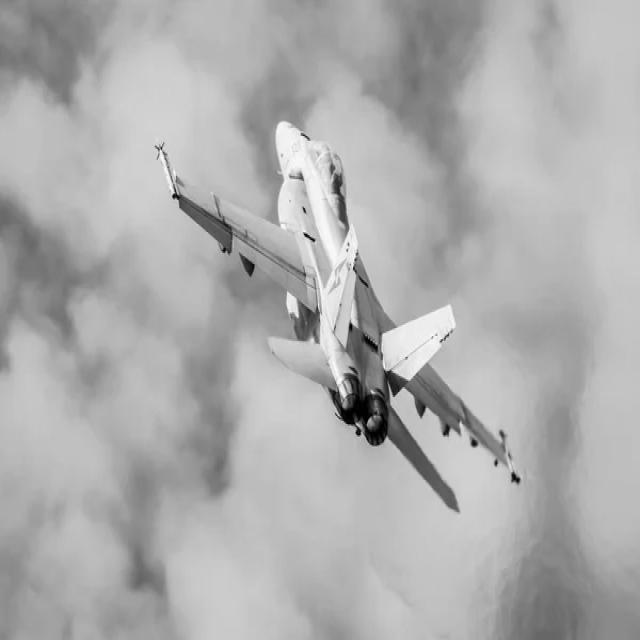Aircraft: (147, 108, 530, 524)
